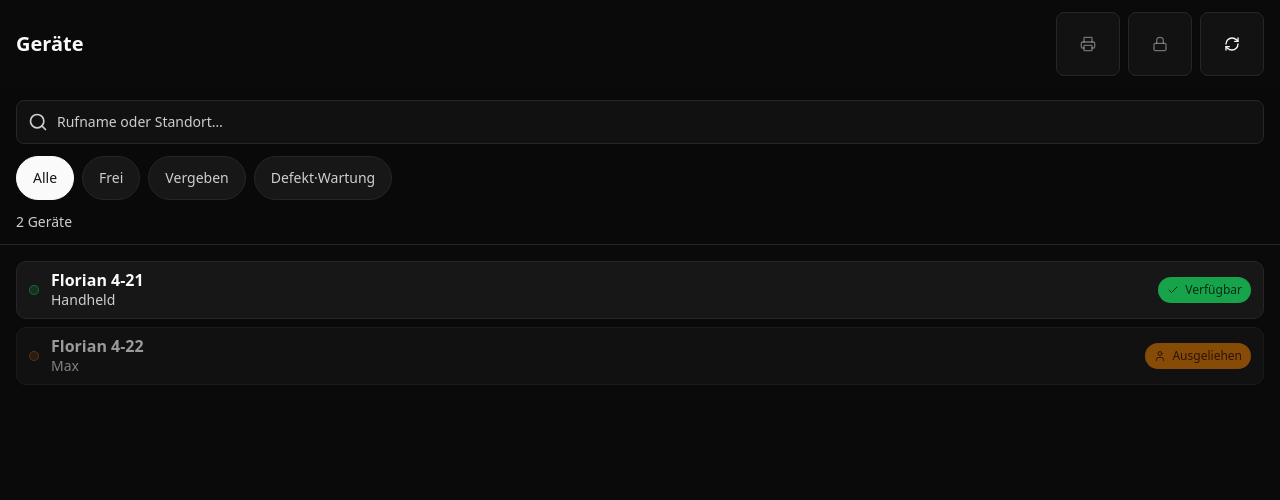
DeviceList › Refresh Button › shows error message when refresh fails
The image size is (1280, 500).
Click the button named "aktualisieren": (1232, 44) left=1200, top=12, right=1264, bottom=76
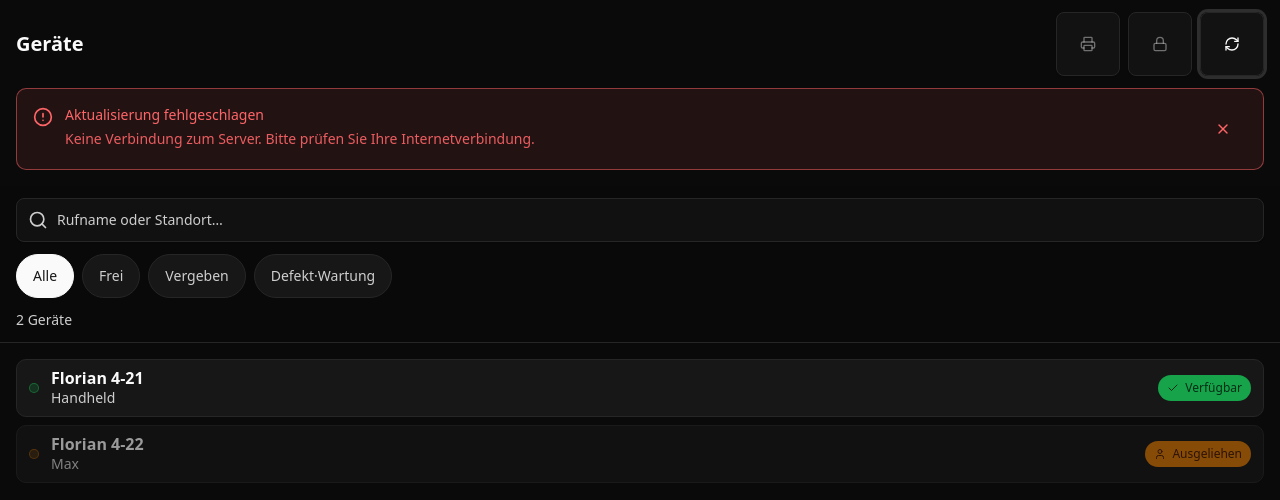
Expected: the text "Aktualisierung fehlgeschlagen" is shown, left=65, top=105, right=264, bottom=124
Expected: the message that starts with "Aktualisierung fehlgeschlagen" is shown, left=16, top=88, right=1264, bottom=170
